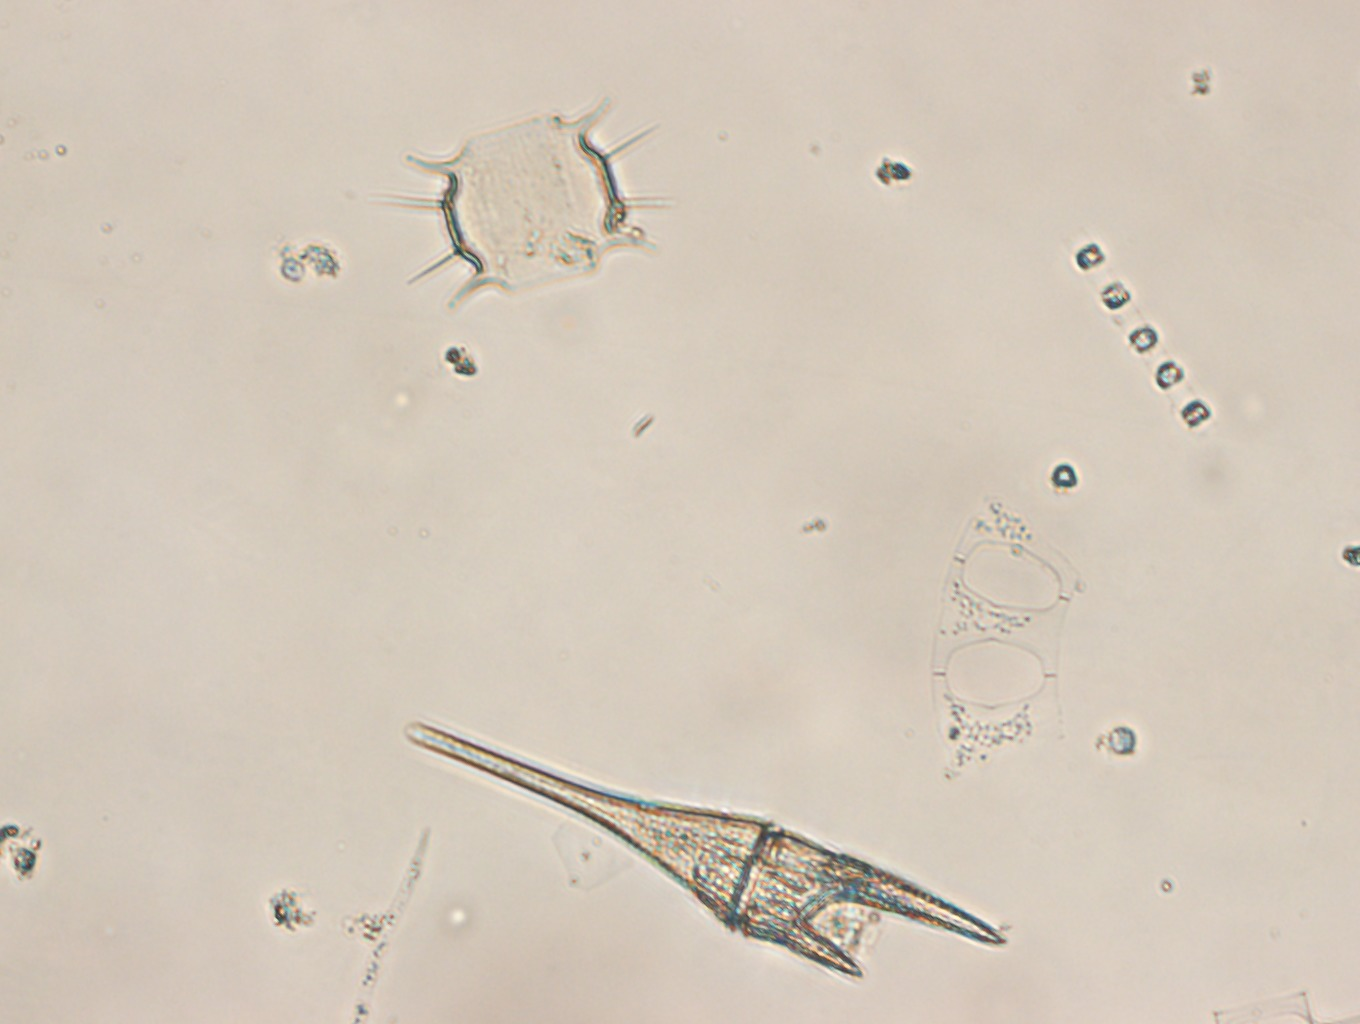ceratium furca: (390, 719, 1010, 989)
eucampia: (914, 487, 1082, 790)
skeletonema: (1050, 218, 1219, 446)
